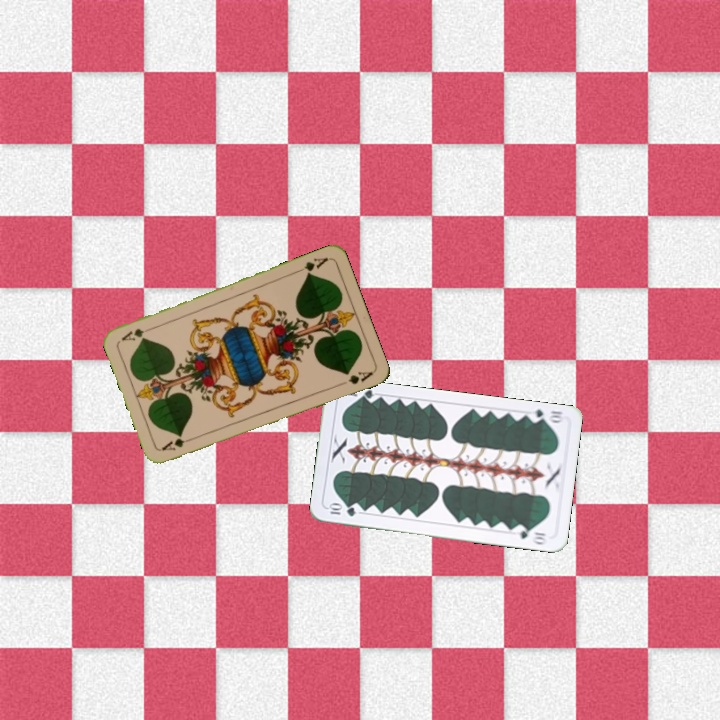G10: (525, 405, 566, 426), (324, 501, 358, 519)
GA: (292, 253, 331, 278), (158, 433, 197, 453)
